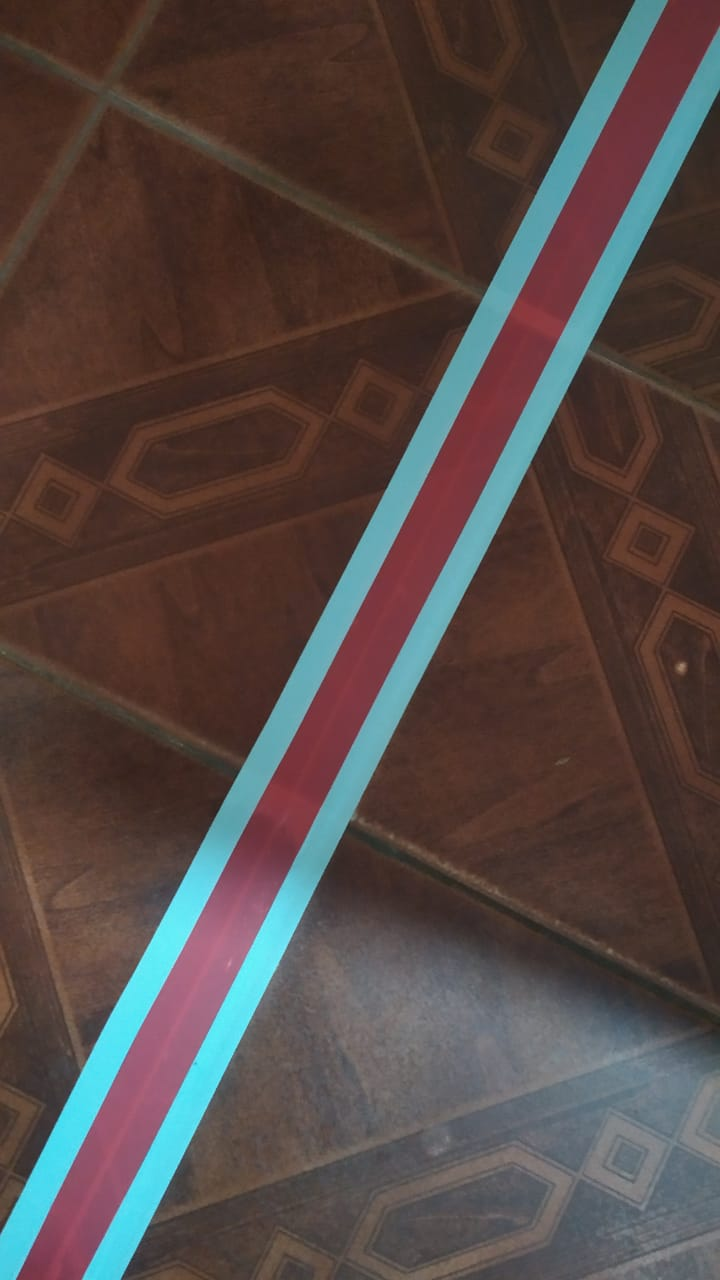faixa_saindo_esquerda: (1, 5, 718, 1270)
